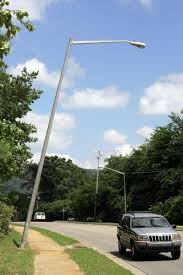light_pole: (19, 36, 80, 254)
